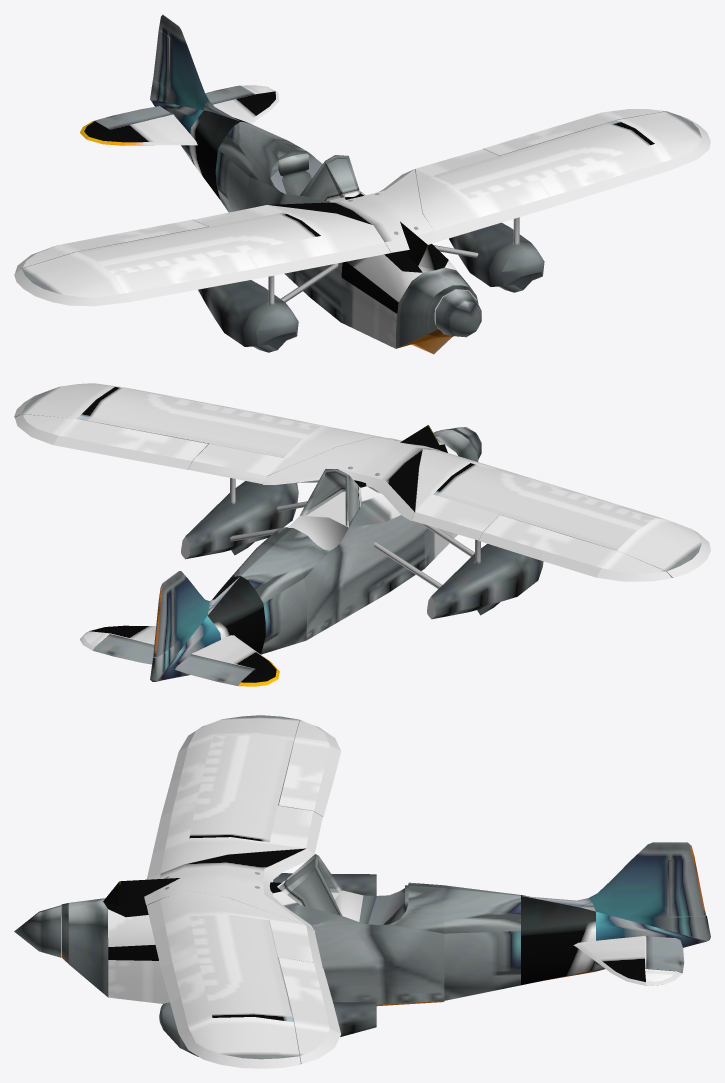
Rendered from WS2_pln_plane.obj.
3 views of the same model, one above another, from view 1: azimuth 30°, elevation 25°; view 2: azimuth 150°, elevation 25°; view 3: azimuth 270°, elevation 25° (orthographic). The views are drawn at different scales.
Parts seen in each view (by area): view 1: polygon0; view 2: polygon0; view 3: polygon0.
Boxes of the visible parts, x1,y1,x2,y2 form: polygon0: (14,14,710,354); polygon0: (14,383,710,686); polygon0: (14,715,710,1068).
Bounding box in the file's own units: 64.93 × 14.56 × 54.35.
Materials: 1 (1 with a texture image).
